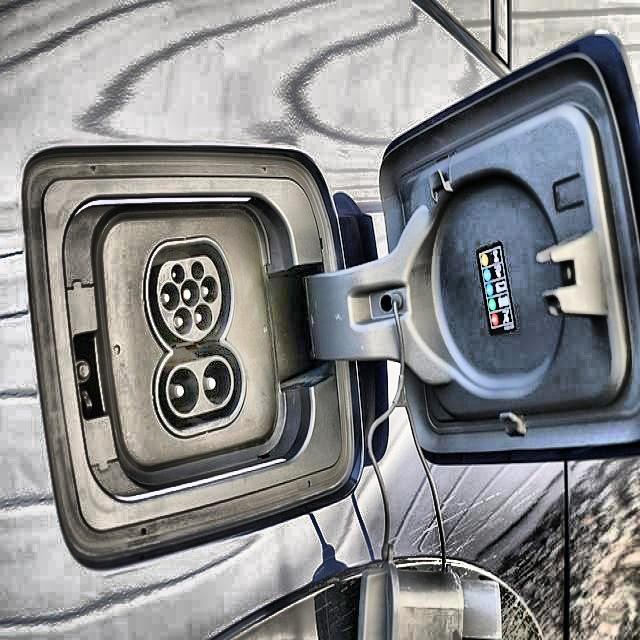inlet: (157, 256, 221, 341)
inlet-above-left: (171, 264, 185, 283)
inlet-above-right: (191, 260, 204, 281)
inlet-below-left: (173, 306, 192, 336)
inlet-below-right: (194, 304, 212, 332)
inlet-center: (180, 279, 199, 307)
inlet-center-left: (161, 282, 179, 310)
inlet-center-right: (201, 276, 218, 304)
